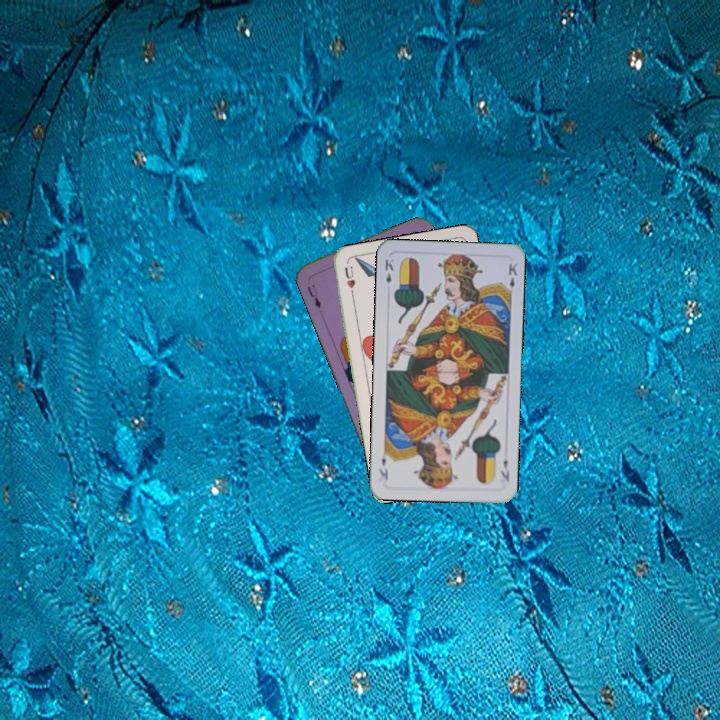EK: (381, 254, 396, 286), (497, 455, 512, 484)
EU: (303, 280, 324, 312)
HU: (341, 262, 358, 301)
